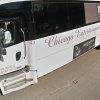Bus: (4, 1, 95, 88)
